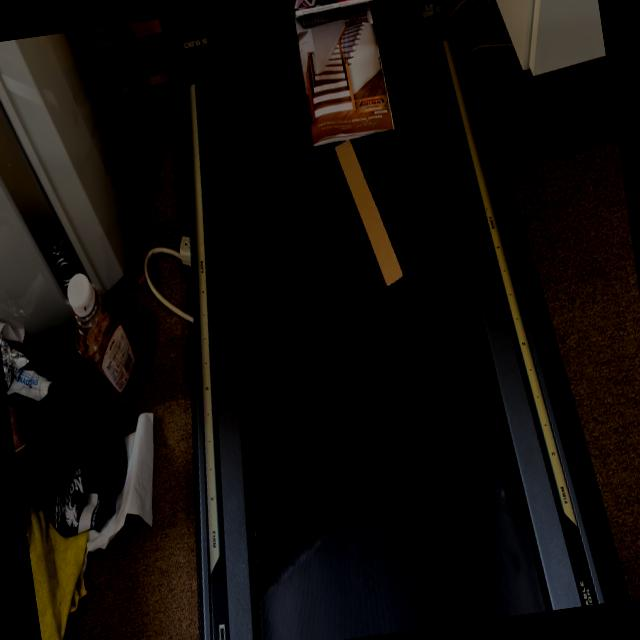Recycle: (292, 0, 397, 145), (319, 136, 406, 297)
